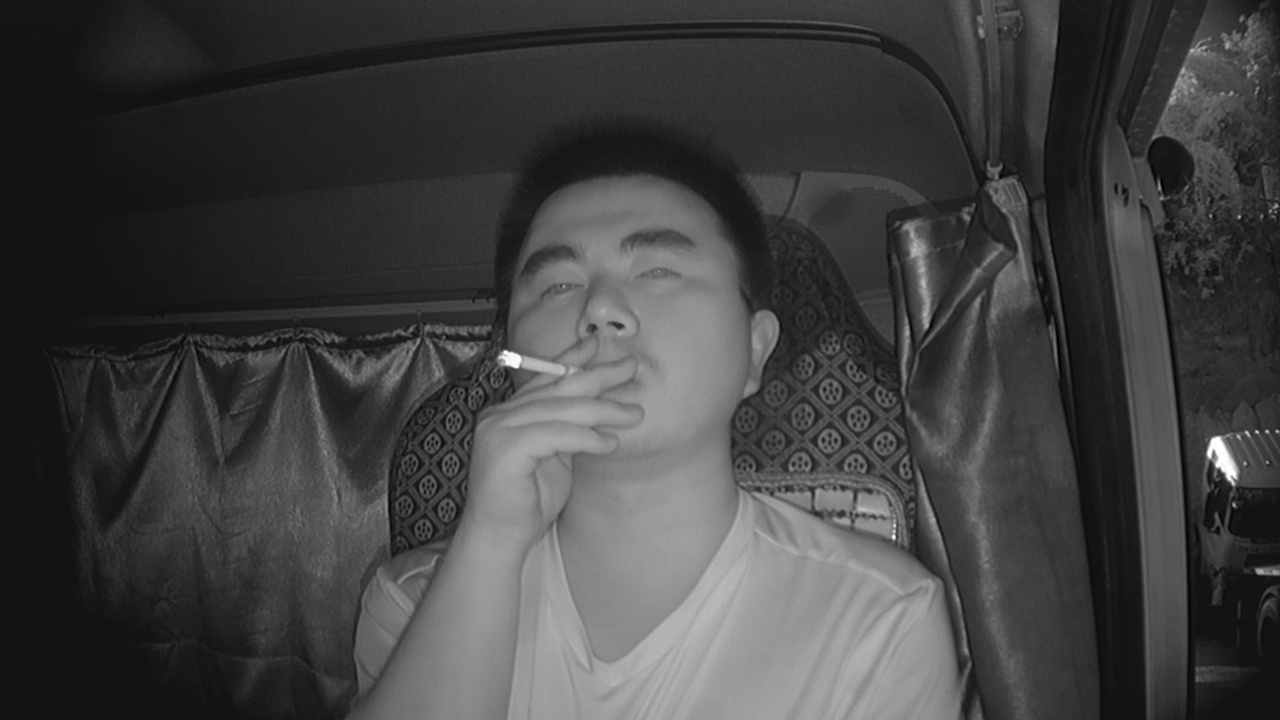hand: (475, 352, 651, 497)
